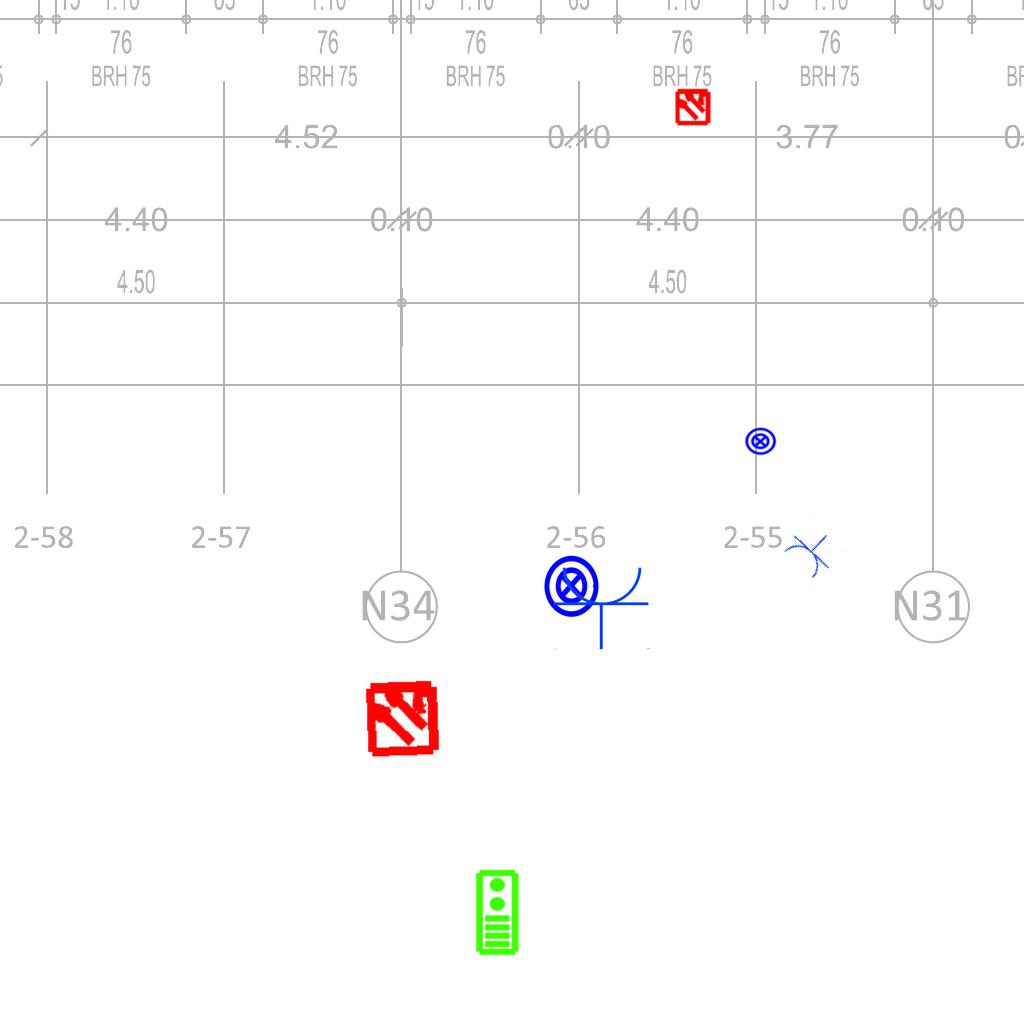Gegensprechanlage_mit_Video: (473, 868, 520, 956)
OT_Multisensormelder_(Kombination_RMO_WMD): (344, 658, 461, 775), (665, 78, 721, 134)
Schukosteckdose_einfach: (552, 563, 652, 650), (779, 517, 845, 584)
Taster_beleuchtet: (538, 553, 604, 619), (744, 425, 777, 458)
